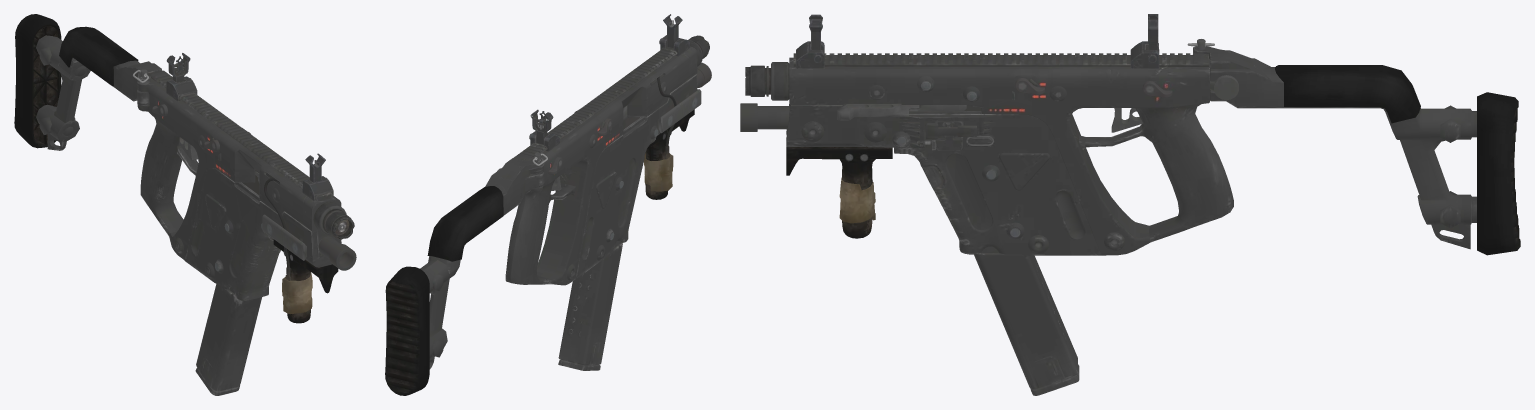
The model's file is pdw.glb.
3 renders of one model, left to right at view 1: azimuth 30°, elevation 25°; view 2: azimuth 150°, elevation 25°; view 3: azimuth 270°, elevation 25°, orthographic. The views are drawn at different scales.
Parts seen in each view (by area): view 1: defaultMaterial (×18); view 2: defaultMaterial (×17); view 3: defaultMaterial (×15).
Boxes of the visible parts, bbox=[...] form: defaultMaterial (×18): bbox=[14, 14, 356, 395]; defaultMaterial (×17): bbox=[385, 14, 711, 395]; defaultMaterial (×15): bbox=[740, 41, 1520, 395].
Size of the model in its own units: 2.68 by 15.11 by 28.71.
Materials: 1 (1 with a texture image).
